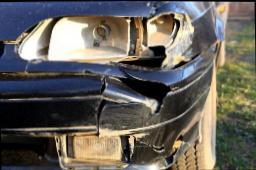Bumper: (0, 55, 215, 167)
Light: (16, 13, 190, 55)
